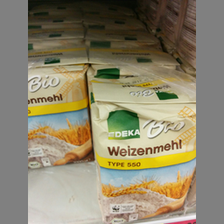flour: (86, 78, 197, 224), (29, 49, 95, 172)
